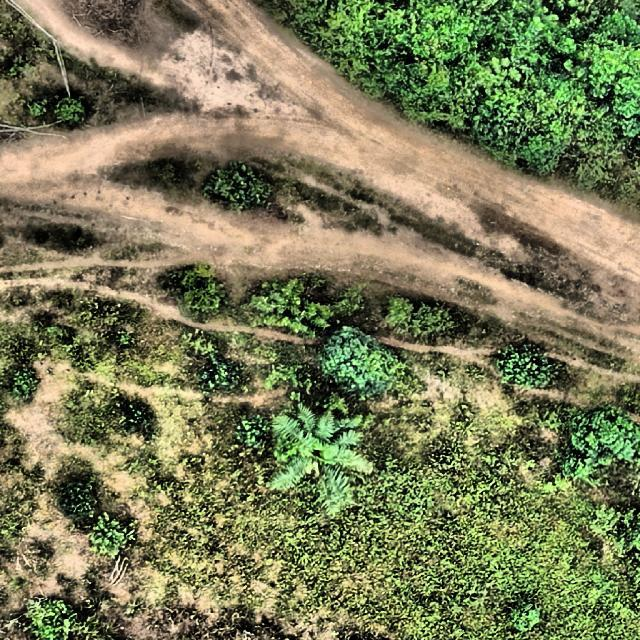Kelapa_Sawit: (266, 395, 374, 508)
